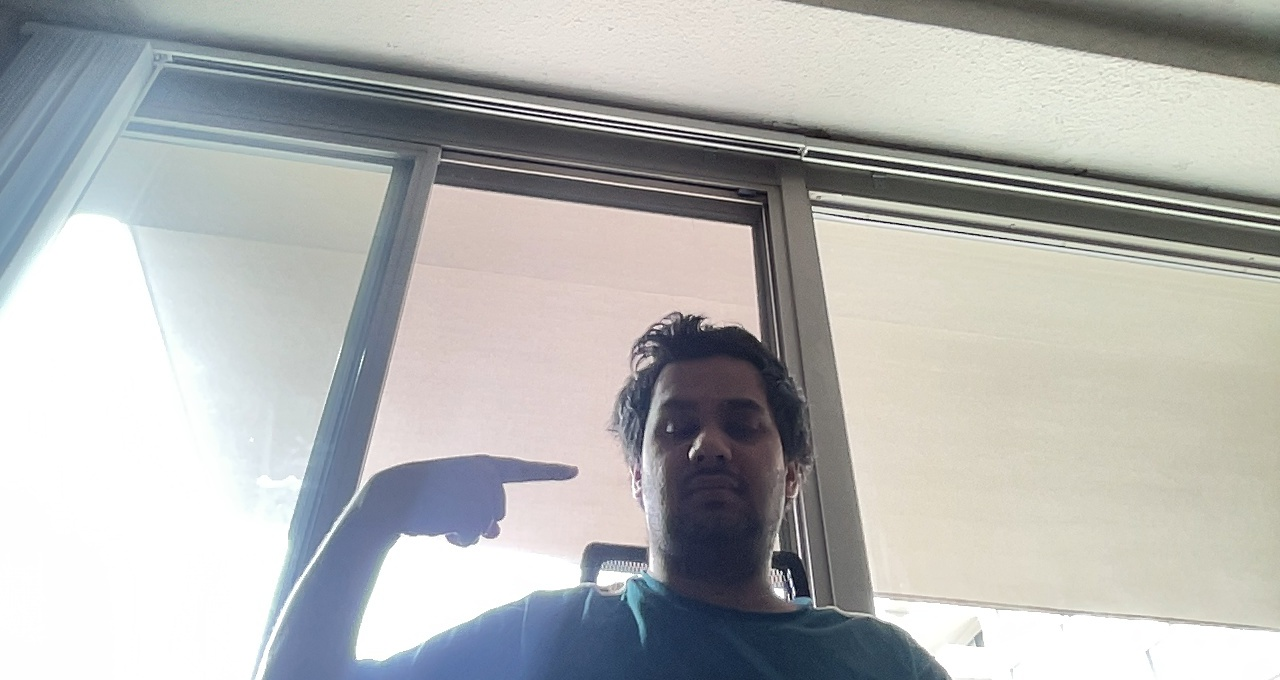fingerleft: (373, 450, 585, 547)
